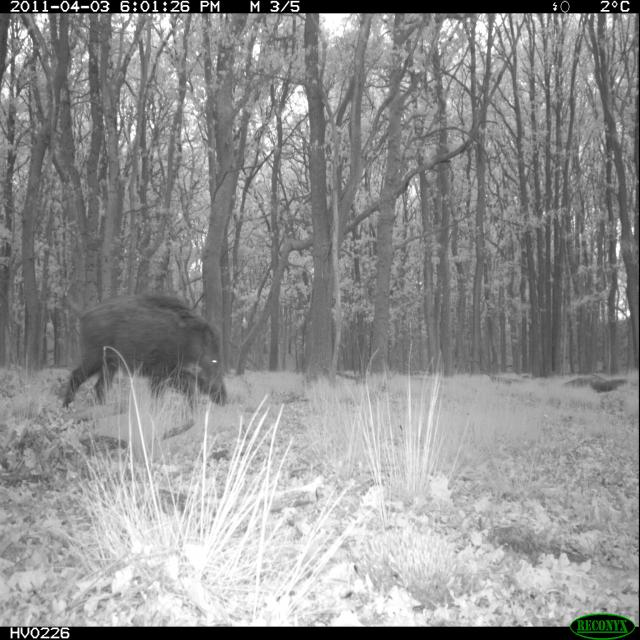boar: (25, 259, 257, 452)
